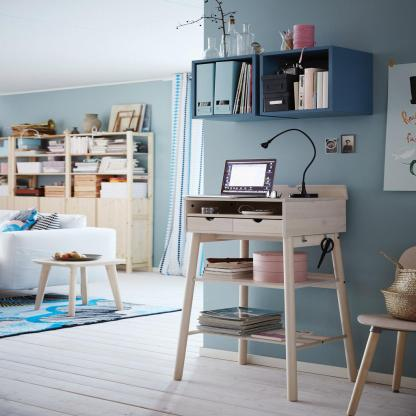Sofa: (0, 208, 118, 296)
